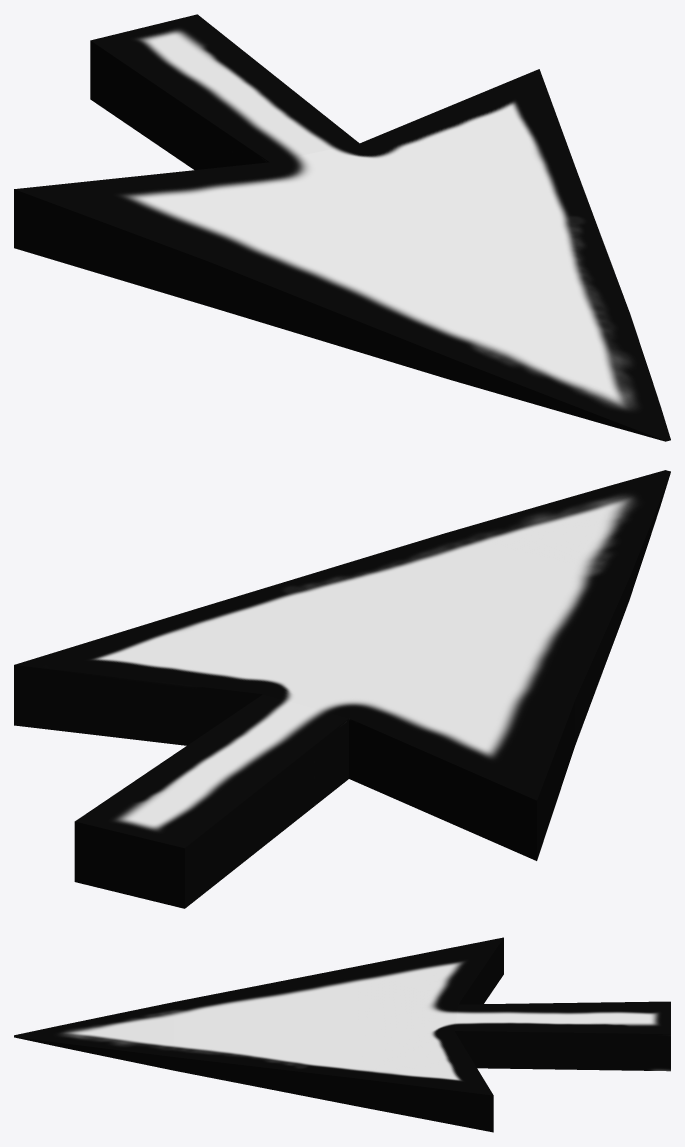
File: Ship(Cursorior).fbx
3 renders of one model, top to bottom at view 1: azimuth 30°, elevation 25°; view 2: azimuth 150°, elevation 25°; view 3: azimuth 270°, elevation 25°, orthographic. The views are drawn at different scales.
Visible parts, largest first — view 1: Cube; view 2: Cube; view 3: Cube.
Part boxes in pixels (x1,y1,x2,y2): Cube: [14, 14, 670, 441]; Cube: [14, 470, 670, 908]; Cube: [14, 937, 670, 1132].
Bounding box in the file's own units: 457 × 49.76 × 802.
1 material, 1 textured.
